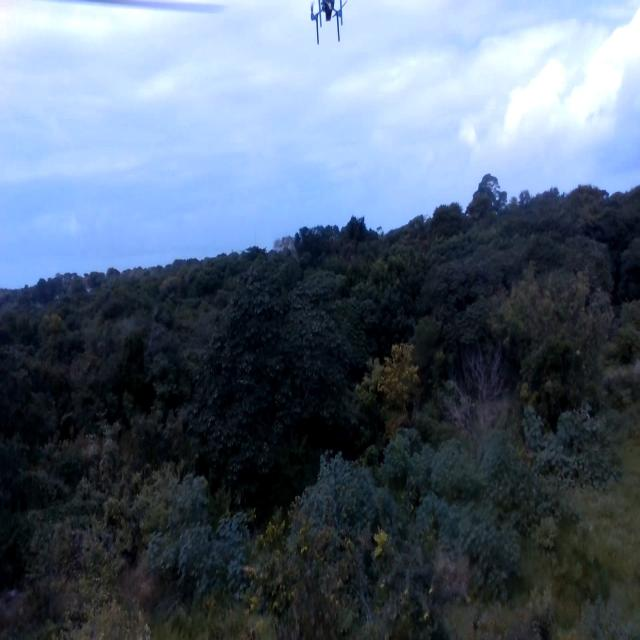-uav-: (308, 0, 356, 47)
